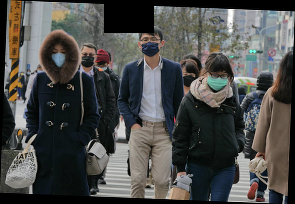with_mask: (140, 35, 162, 58), (207, 70, 229, 92), (49, 47, 68, 69), (80, 49, 96, 69), (181, 71, 197, 89), (93, 62, 109, 73), (26, 71, 30, 75)
